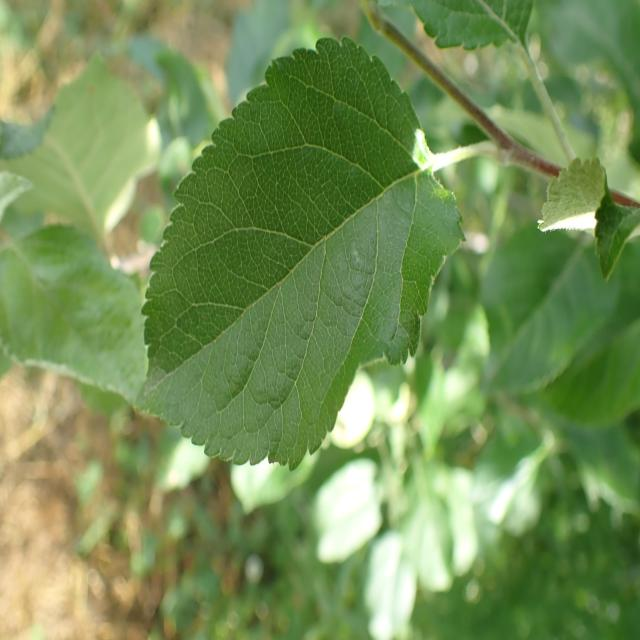healthy: (138, 34, 465, 471)
